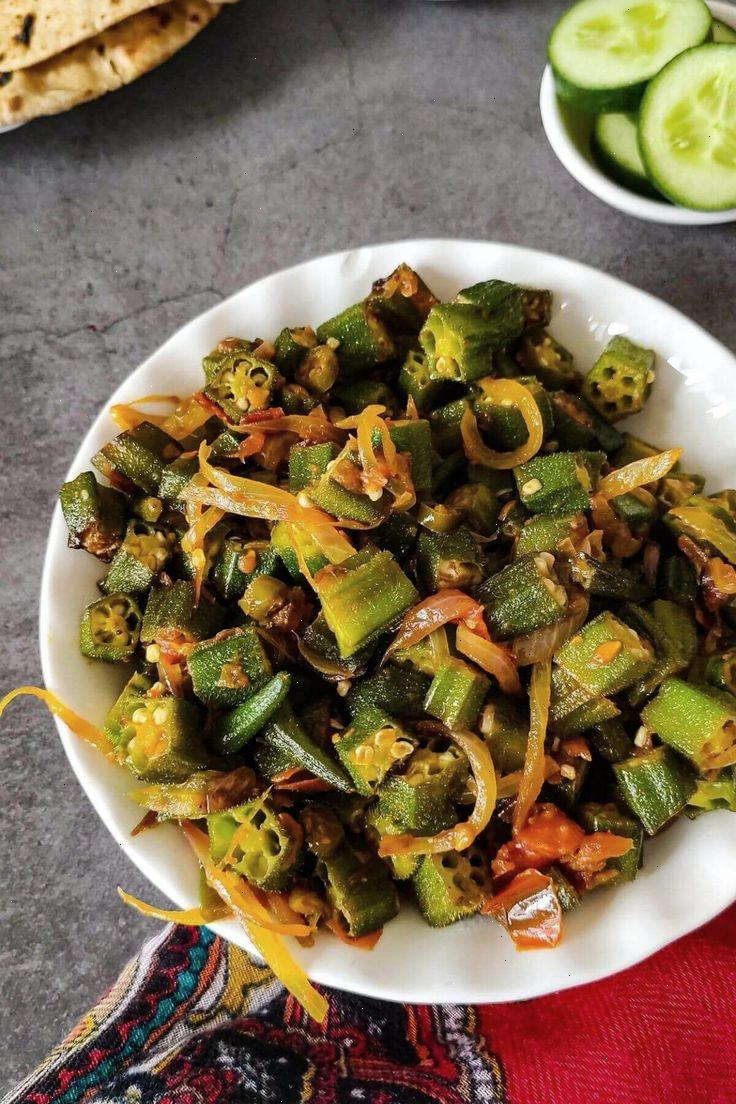bhindi: (202, 336, 681, 934)
